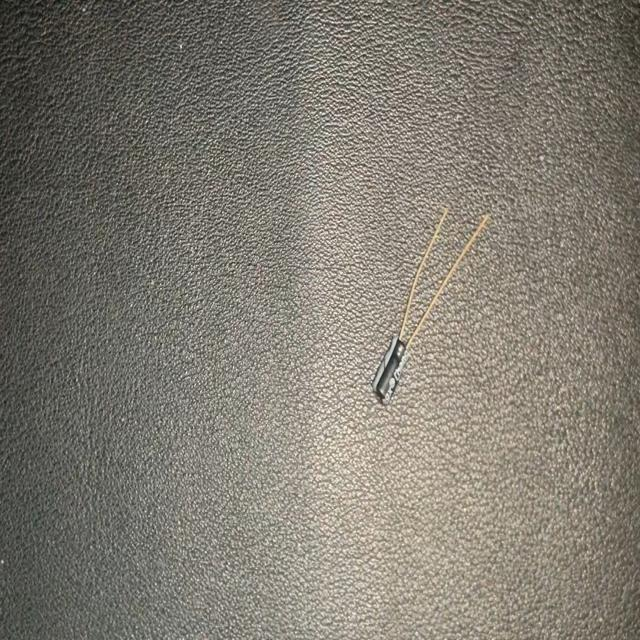capacitor: (371, 211, 489, 409)
